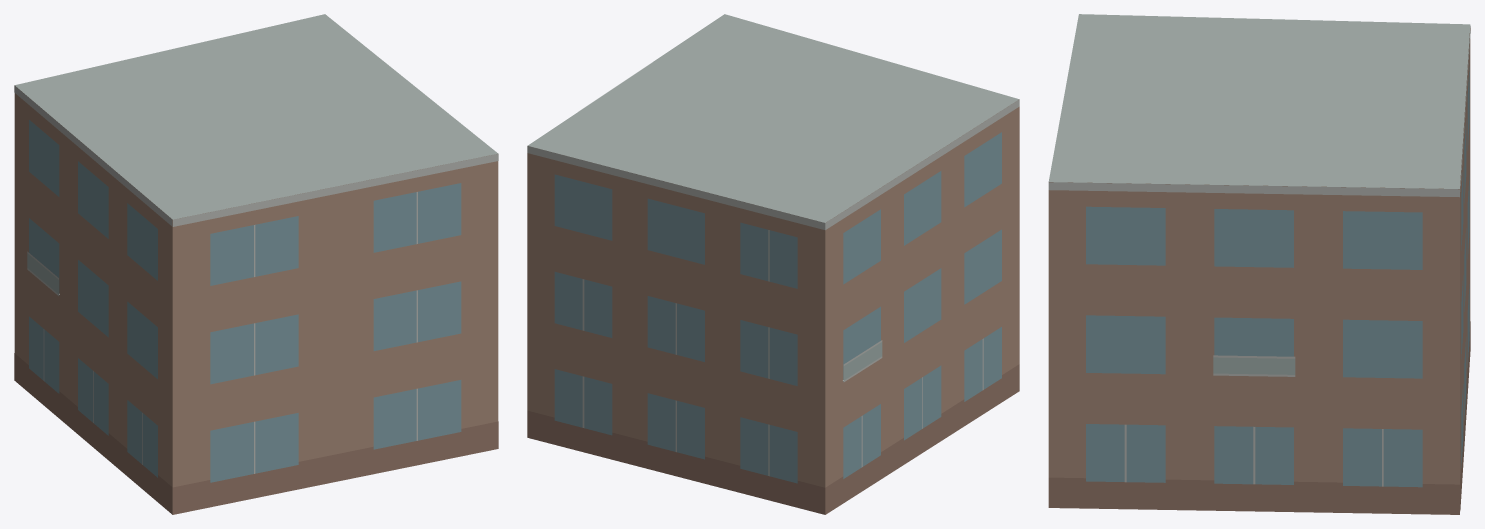
The model's file is survey-upis-32551239.glb.
3 renders of one model, left to right at view 1: azimuth 30°, elevation 25°; view 2: azimuth 150°, elevation 25°; view 3: azimuth 270°, elevation 25°, orthographic. The views are drawn at different scales.
Visible parts, largest first — view 1: survey-upis-32551239.tmp; view 2: survey-upis-32551239.tmp; view 3: survey-upis-32551239.tmp.
Boxes of the visible parts, x1=… form: survey-upis-32551239.tmp: x1=14, y1=14, x2=498, y2=514; survey-upis-32551239.tmp: x1=527, y1=14, x2=1019, y2=514; survey-upis-32551239.tmp: x1=1048, y1=14, x2=1470, y2=514.
Bounding box in the file's own units: 11.3 × 9.8 × 11.51.
